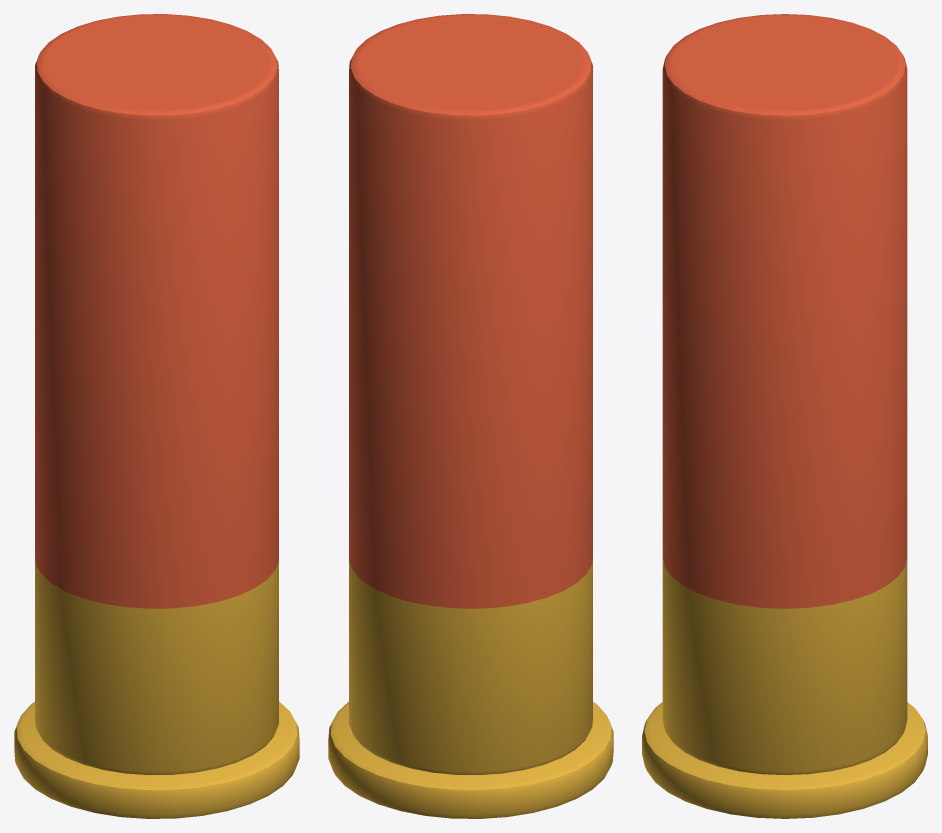
Rendered from Bullet_01a.fbx.
3 renders of one model, left to right at view 1: azimuth 30°, elevation 25°; view 2: azimuth 150°, elevation 25°; view 3: azimuth 270°, elevation 25°, orthographic.
Visible parts, largest first — view 1: Bullet_01a; view 2: Bullet_01a; view 3: Bullet_01a.
Boxes of the visible parts, x1,y1,x2,y2 form: Bullet_01a: [14, 14, 299, 818]; Bullet_01a: [328, 14, 613, 818]; Bullet_01a: [642, 14, 927, 818].
Bounding box in the file's own units: 6.46 × 17.45 × 6.46.
